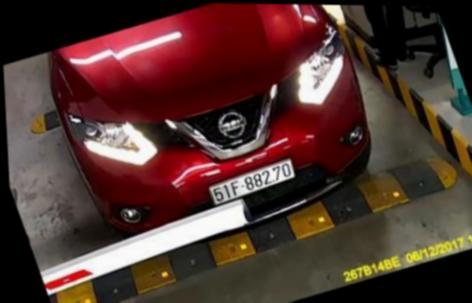License_Plate: (205, 161, 313, 208)
